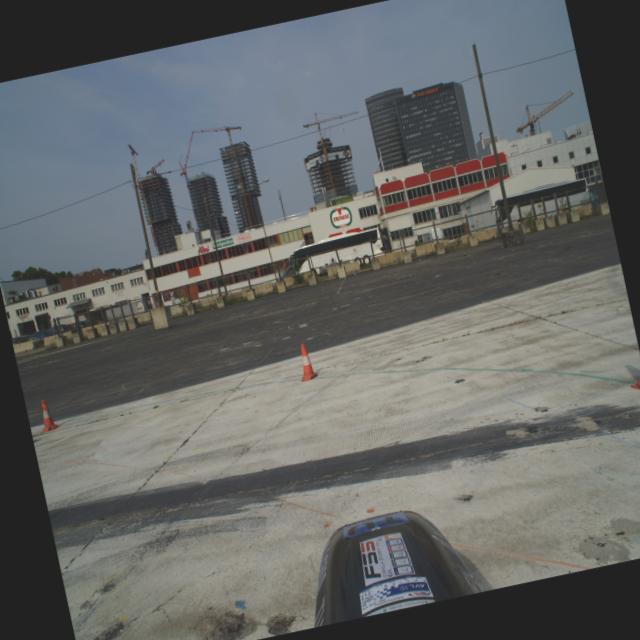orange_cone: (34, 397, 61, 433), (294, 342, 318, 382)
